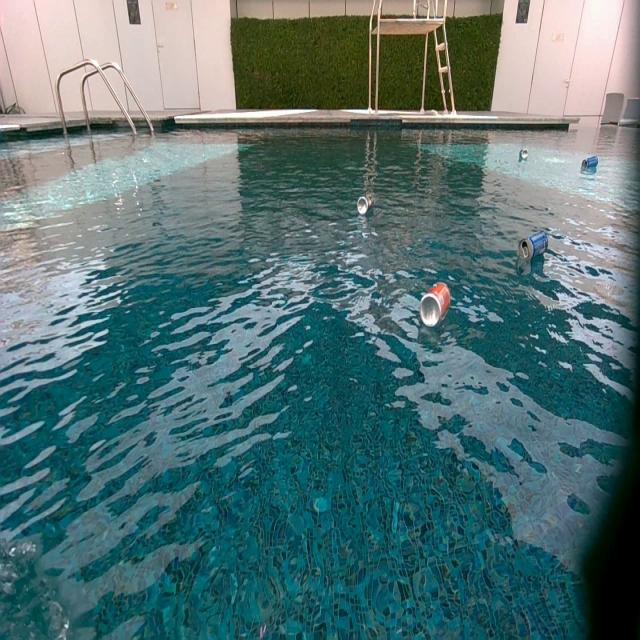Cans: (419, 281, 449, 329), (518, 230, 548, 264), (584, 157, 600, 171), (356, 198, 368, 215), (520, 148, 530, 160)
